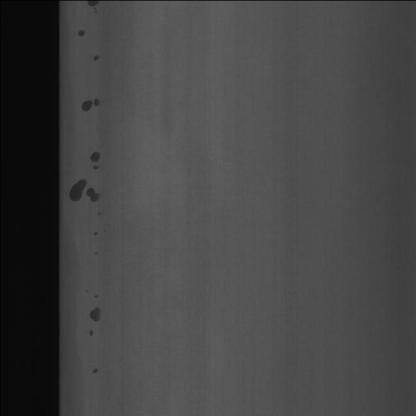oil_spot: (63, 175, 100, 218), (76, 89, 102, 118), (83, 302, 102, 335), (73, 16, 95, 44), (87, 147, 107, 173)
